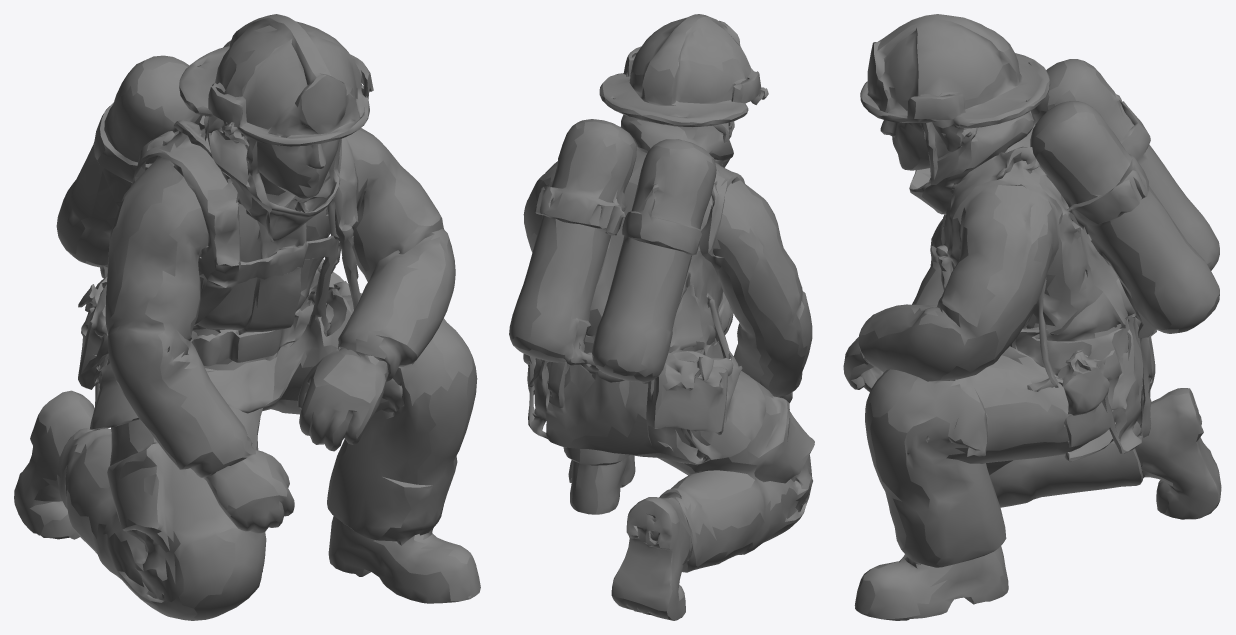
The model's file is completion_firefighter_1.glb.
3 views of the same model, side by side, from view 1: azimuth 30°, elevation 25°; view 2: azimuth 150°, elevation 25°; view 3: azimuth 270°, elevation 25° (orthographic). The views are drawn at different scales.
Parts seen in each view (by area): view 1: geometry_0; view 2: geometry_0; view 3: geometry_0.
Boxes of the visible parts, x1,y1,x2,y2 form: geometry_0: (14, 14, 480, 620); geometry_0: (509, 14, 814, 620); geometry_0: (843, 14, 1221, 620).
Size of the model in its own units: 0.5927 by 1 by 0.6407.
1 material, 1 textured.
